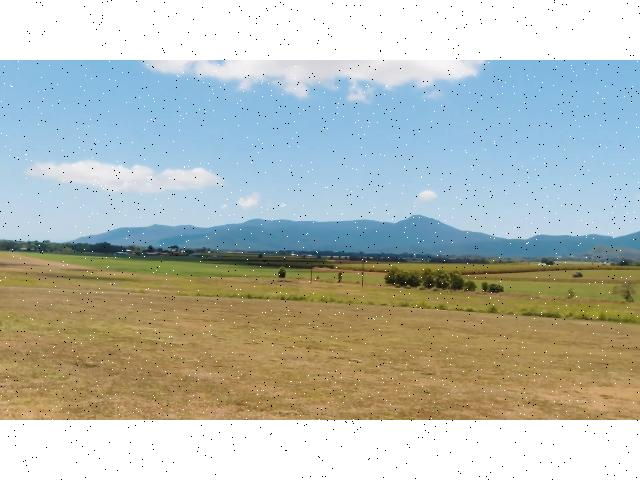Anti-Drone: (276, 202, 290, 209)
